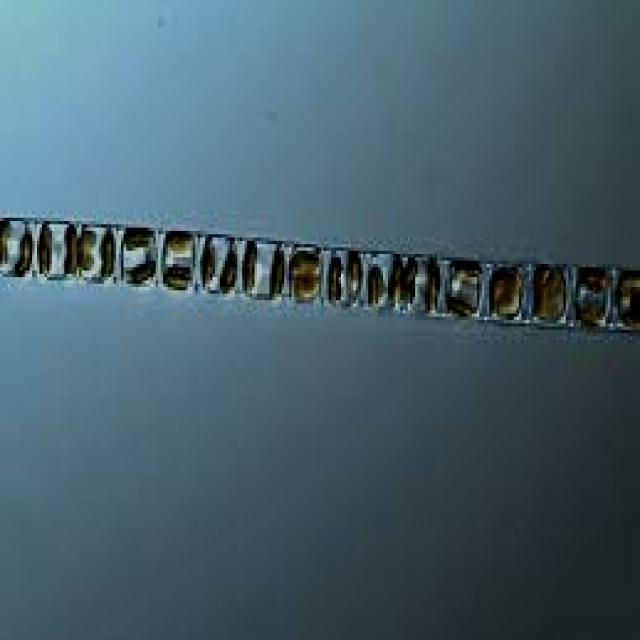Skeletonema: (1, 212, 640, 342)
